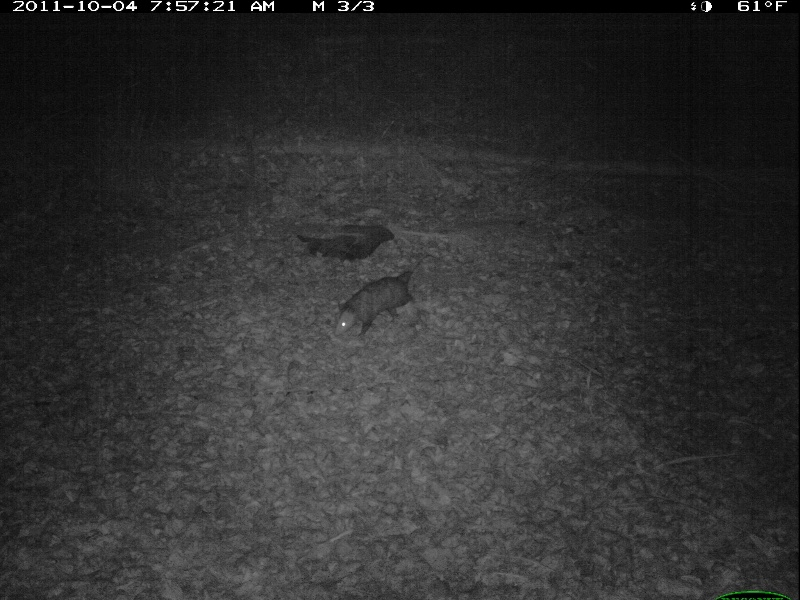opossum: (330, 268, 425, 340)
